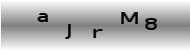8: (144, 17, 157, 30)
J: (63, 23, 72, 40)
M: (120, 10, 138, 24)
a: (35, 12, 49, 23)
r: (92, 27, 102, 39)
